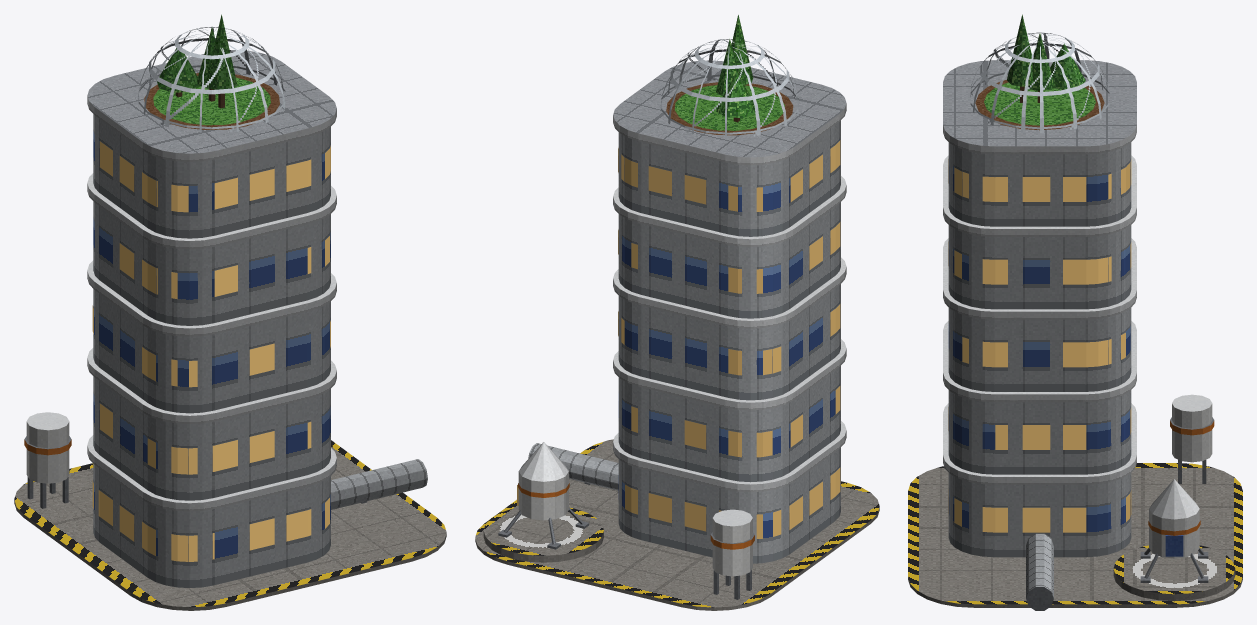
File: mars_6_luxurehab_hotel_b.glb
3 renders of one model, left to right at view 1: azimuth 30°, elevation 25°; view 2: azimuth 150°, elevation 25°; view 3: azimuth 270°, elevation 25°, orthographic. The views are drawn at different scales.
Visible parts, largest first — view 1: luxurehab_hotel_b, noc; view 2: luxurehab_hotel_b, noc; view 3: luxurehab_hotel_b, noc.
Boxes of the visible parts, x1,y1,x2,y2 form: luxurehab_hotel_b: (14, 14, 446, 610); noc: (92, 141, 330, 561); luxurehab_hotel_b: (475, 15, 879, 610); noc: (517, 140, 840, 538); luxurehab_hotel_b: (908, 14, 1242, 610); noc: (948, 159, 1131, 532).
Size of the model in its own units: 13.98 by 22.02 by 13.2.
1 material, 1 textured.
